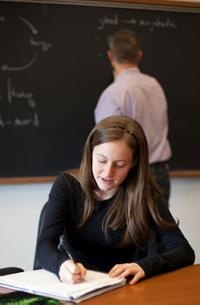person without safety: (59, 112, 182, 263), (93, 25, 177, 117)
